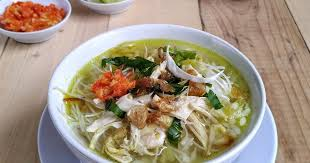Soto: (63, 34, 255, 163)
